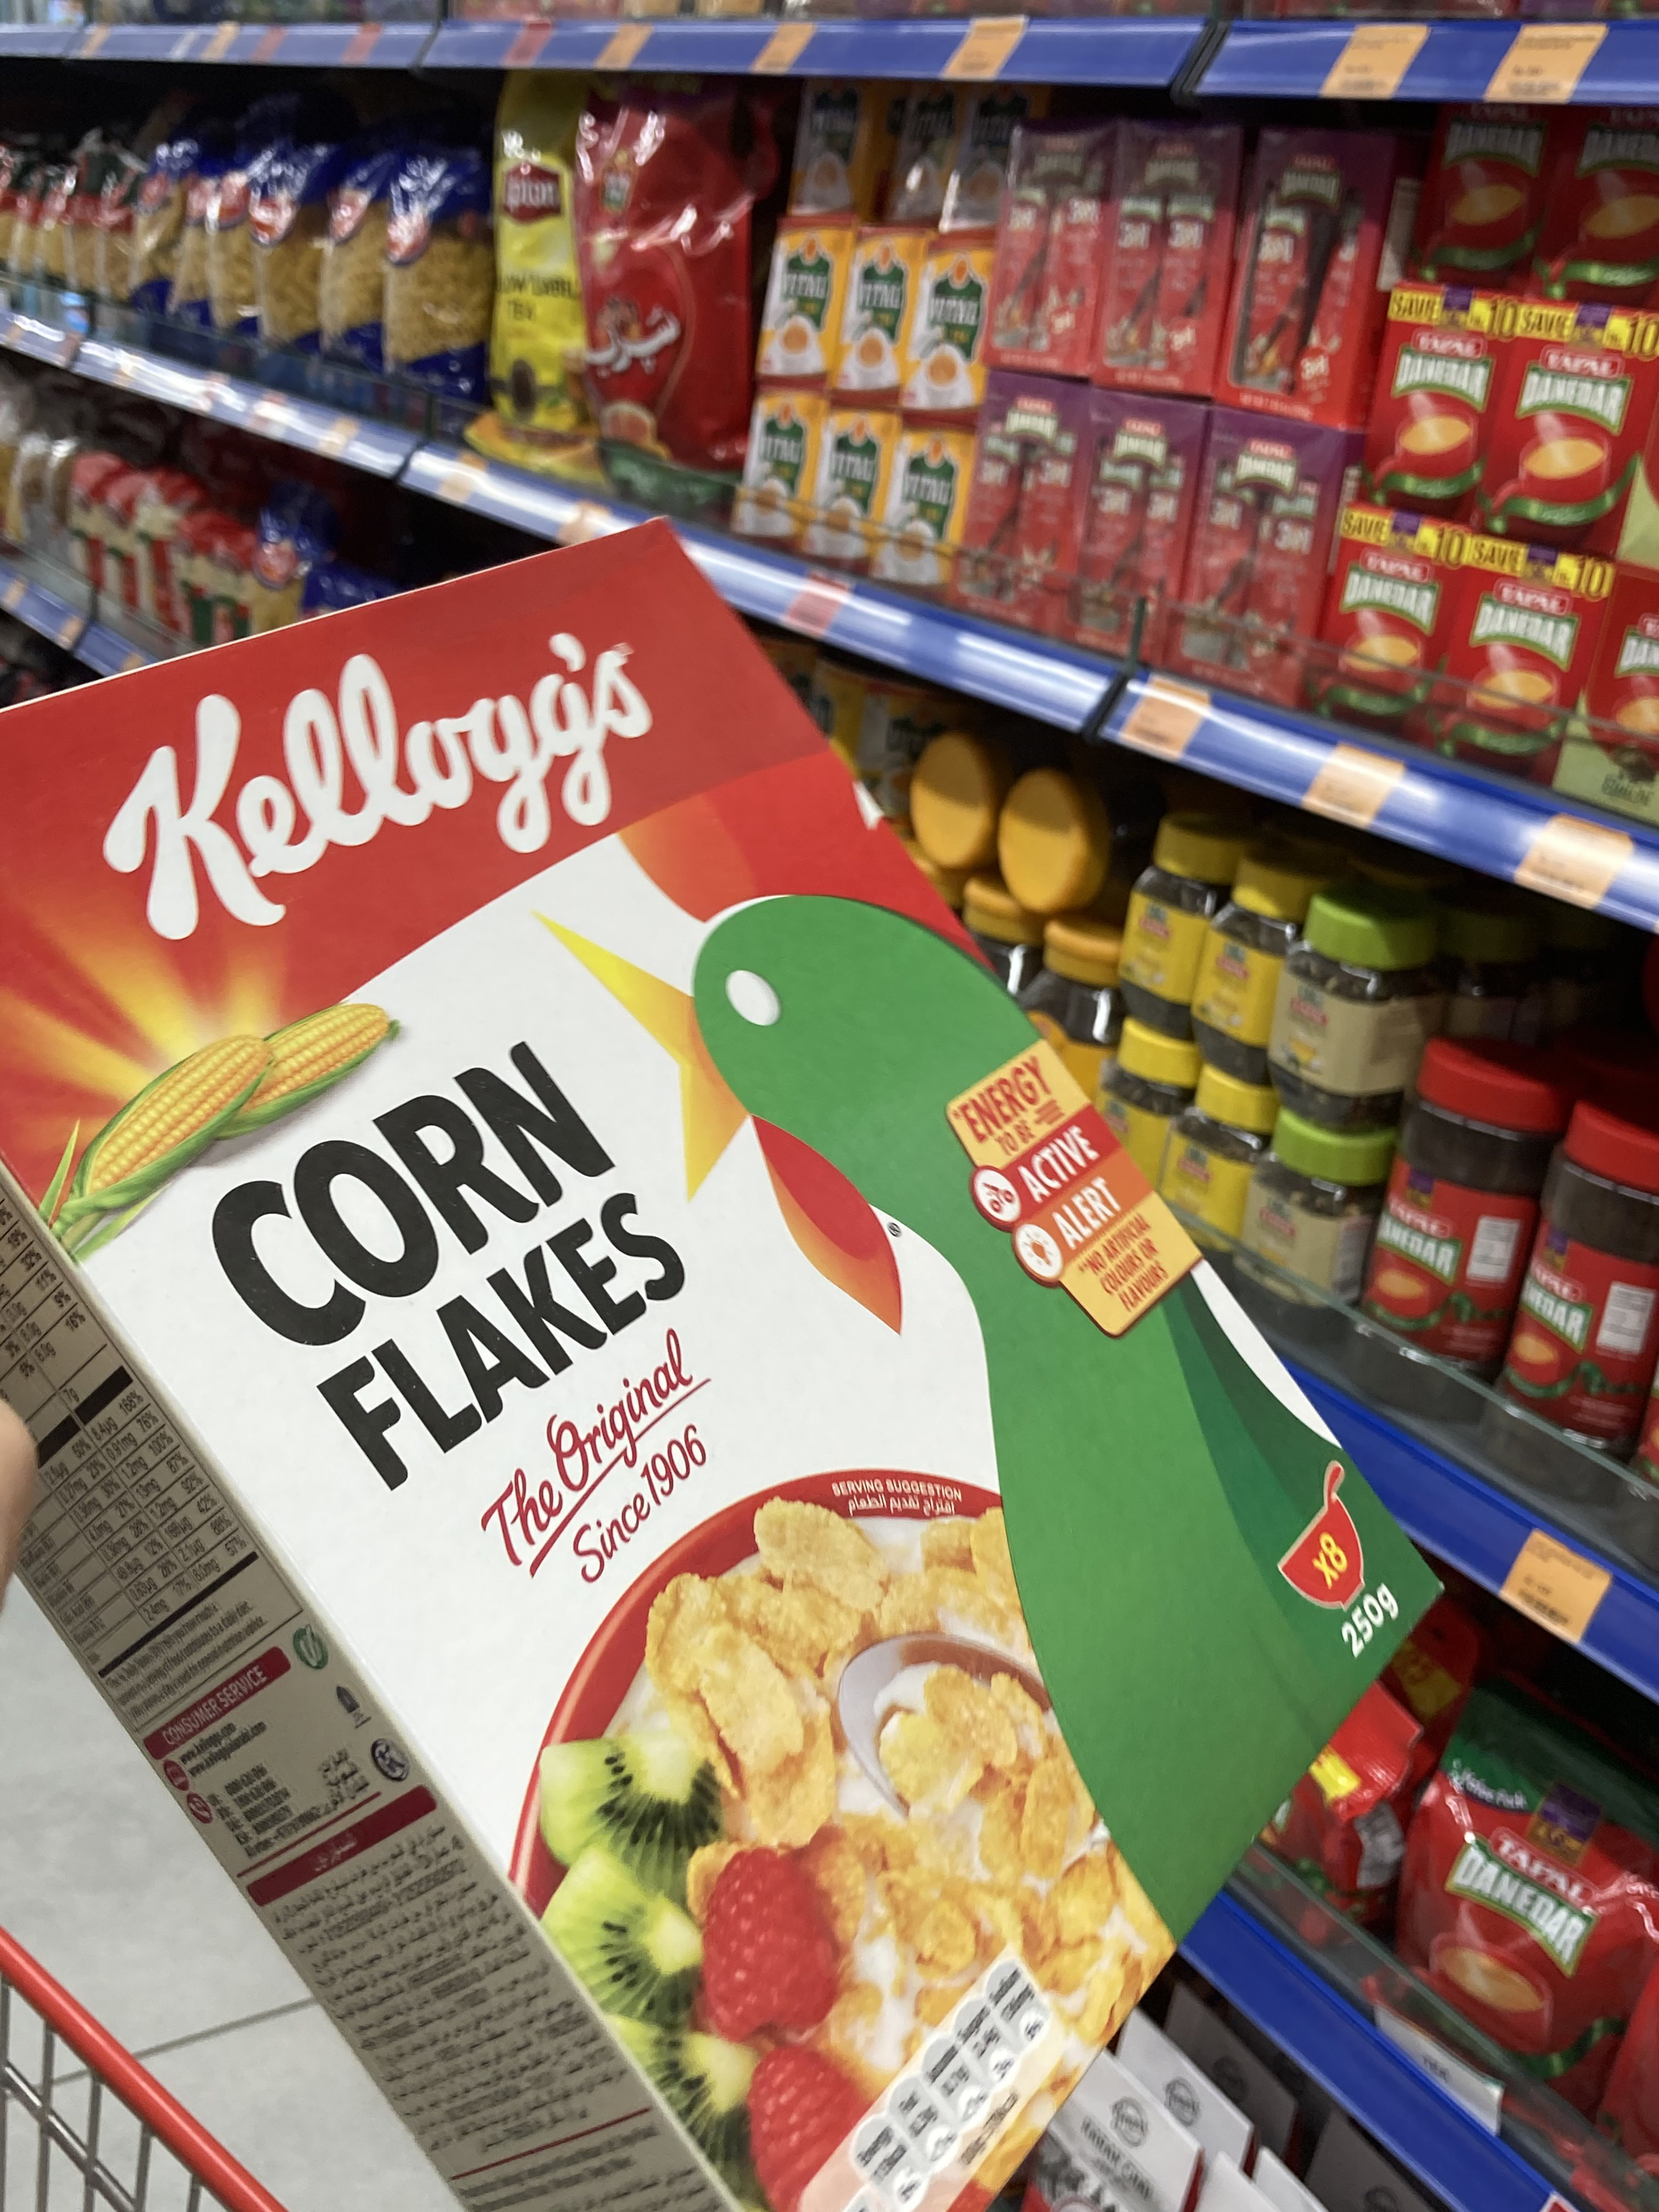Kellogg's Corn Flakes: (9, 516, 1448, 2212)
